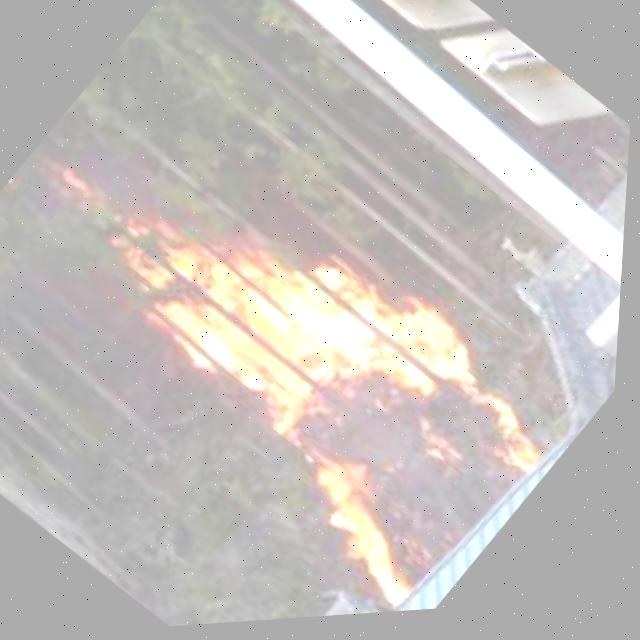Fire: (34, 116, 572, 624)
